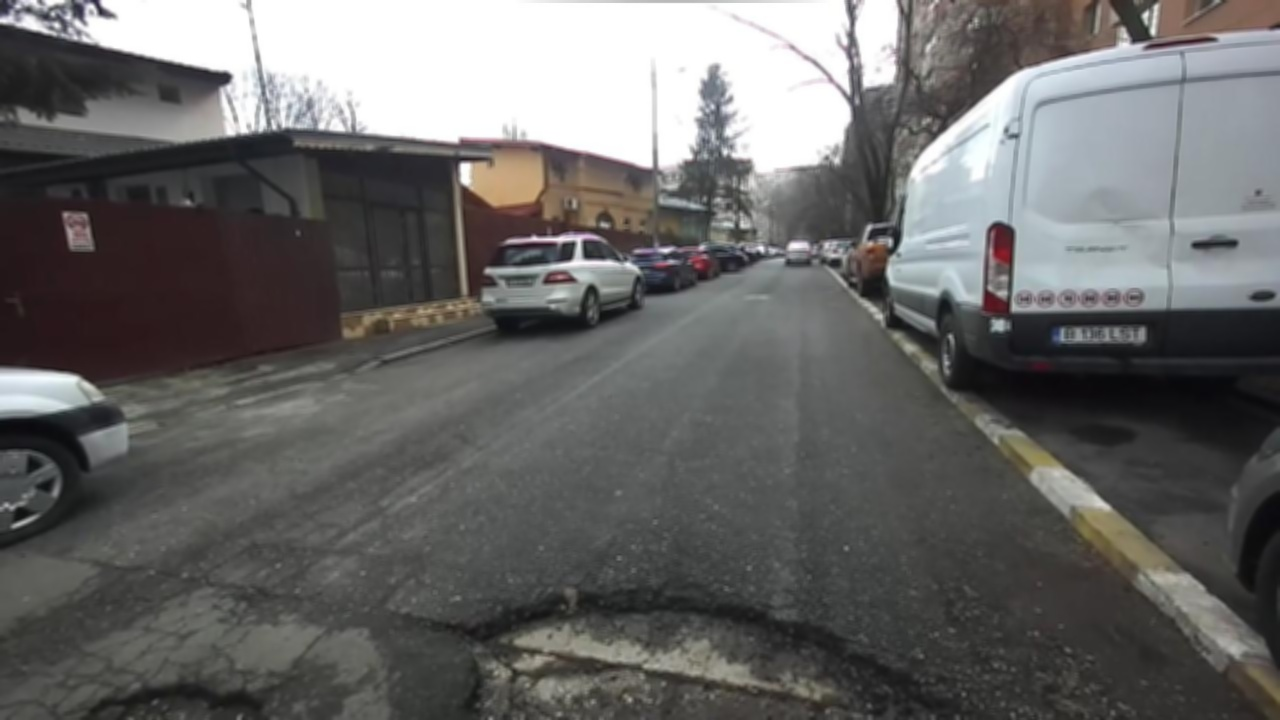pothole: (437, 571, 988, 719), (77, 679, 295, 719)
